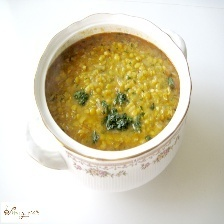dal: (43, 28, 180, 150)
